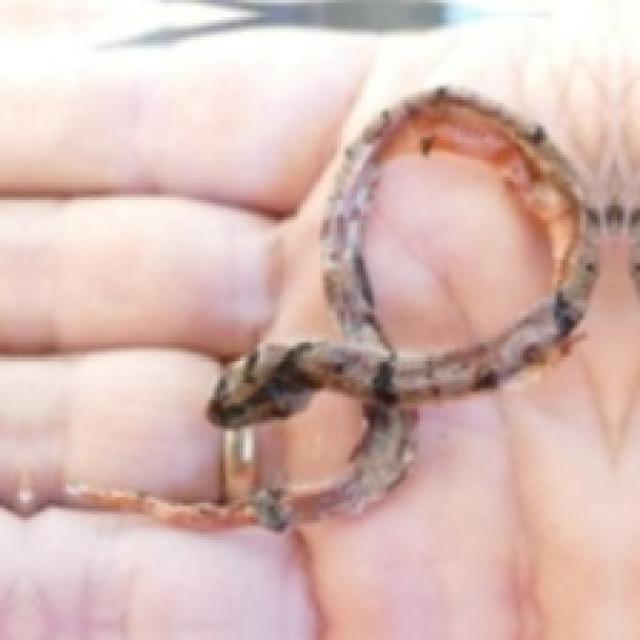northern short-headed snake: (209, 89, 594, 526), (277, 394, 363, 480)
